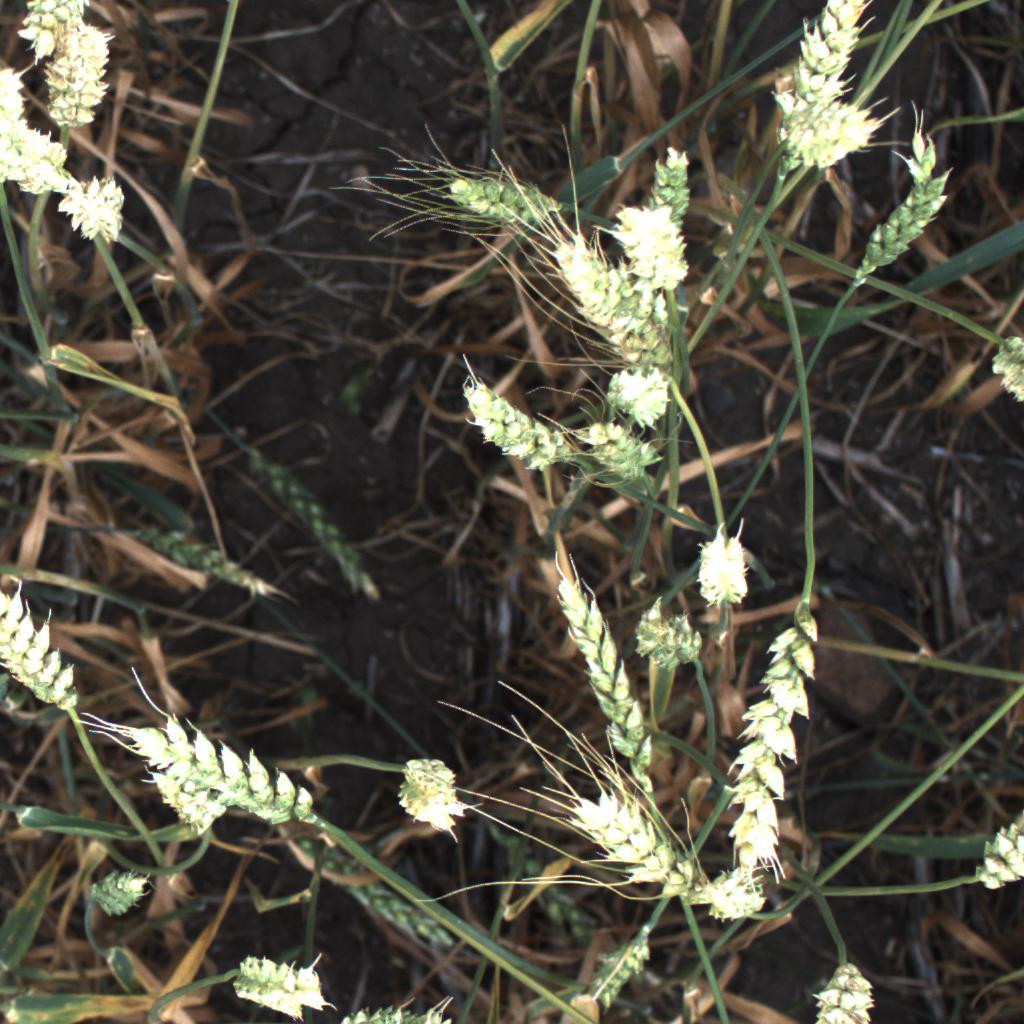0-0: (535, 554, 674, 810), (713, 600, 827, 860), (91, 713, 313, 827), (541, 217, 689, 388), (551, 771, 704, 905), (442, 362, 583, 472), (766, 0, 862, 149), (0, 571, 85, 729), (434, 161, 574, 247), (851, 164, 950, 280), (373, 737, 476, 840), (35, 21, 122, 140), (642, 138, 704, 288), (602, 197, 691, 299), (561, 408, 663, 494), (139, 757, 232, 848), (683, 518, 759, 628), (616, 592, 712, 679), (564, 926, 659, 1013), (226, 945, 334, 1021), (800, 87, 885, 173), (695, 861, 788, 934), (0, 117, 79, 201), (592, 358, 680, 433), (799, 955, 891, 1024), (58, 170, 138, 246), (972, 800, 1024, 904), (9, 0, 91, 64), (76, 861, 159, 922), (326, 990, 467, 1024), (902, 103, 945, 188), (988, 323, 1024, 415), (0, 59, 33, 131)
